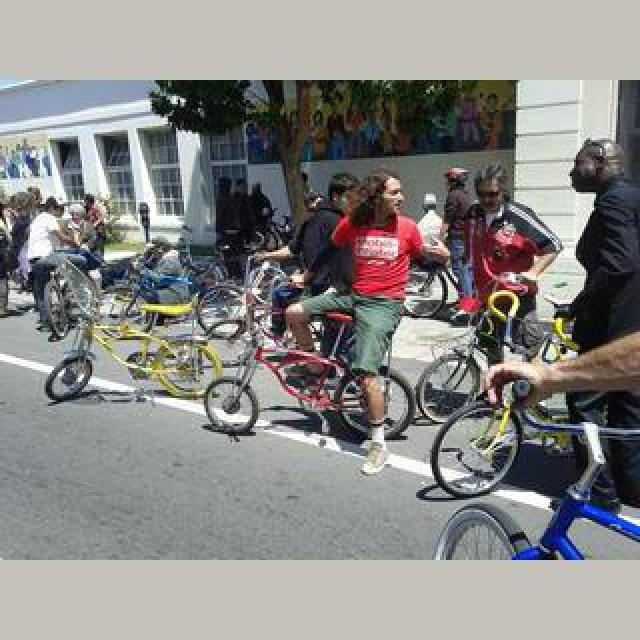MC-Bike: (530, 132, 638, 526), (310, 170, 436, 456), (436, 164, 564, 442), (566, 136, 640, 364), (26, 196, 76, 330), (0, 202, 18, 318)
Person: (428, 288, 638, 506), (202, 276, 418, 450), (434, 378, 640, 558), (414, 302, 590, 422), (44, 300, 222, 404), (108, 260, 244, 346), (34, 248, 102, 342)
